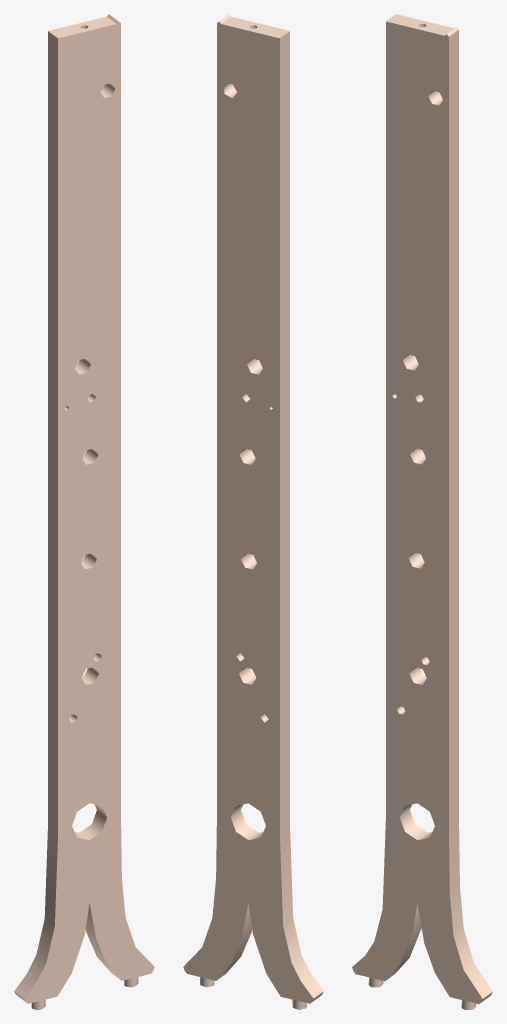
The model's file is Pilier Heures_arriere.obj.
The picture shows the model from 3 angles, left to right: view 1: azimuth 30°, elevation 25°; view 2: azimuth 150°, elevation 25°; view 3: azimuth 330°, elevation 25°; orthographic projection.
Parts seen in each view (by area): view 1: Face_13, Face_4, Face_5, Face_1, Face_28, Face_8; view 2: Face_14, Face_4, Face_5, Face_1, Face_28, Face_8; view 3: Face_13, Face_11, Face_10, Face_1, Face_28, Face_7.
Part boxes in pixels (bbox=[...]): Face_13: bbox=[24, 21, 154, 1003]; Face_4: bbox=[48, 31, 57, 834]; Face_5: bbox=[14, 828, 57, 998]; Face_1: bbox=[48, 16, 115, 38]; Face_28: bbox=[74, 804, 106, 839]; Face_8: bbox=[85, 904, 120, 979]; Face_14: bbox=[183, 21, 313, 1003]; Face_4: bbox=[280, 31, 289, 835]; Face_5: bbox=[280, 828, 323, 998]; Face_1: bbox=[222, 16, 289, 38]; Face_28: bbox=[231, 804, 263, 839]; Face_8: bbox=[217, 904, 252, 979]; Face_13: bbox=[352, 21, 482, 1003]; Face_11: bbox=[449, 30, 458, 835]; Face_10: bbox=[449, 828, 492, 998]; Face_1: bbox=[386, 14, 454, 35]; Face_28: bbox=[400, 804, 432, 839]; Face_7: bbox=[386, 904, 421, 980].
Size of the model in its own units: 0.0445 by 0.3166 by 0.006.
